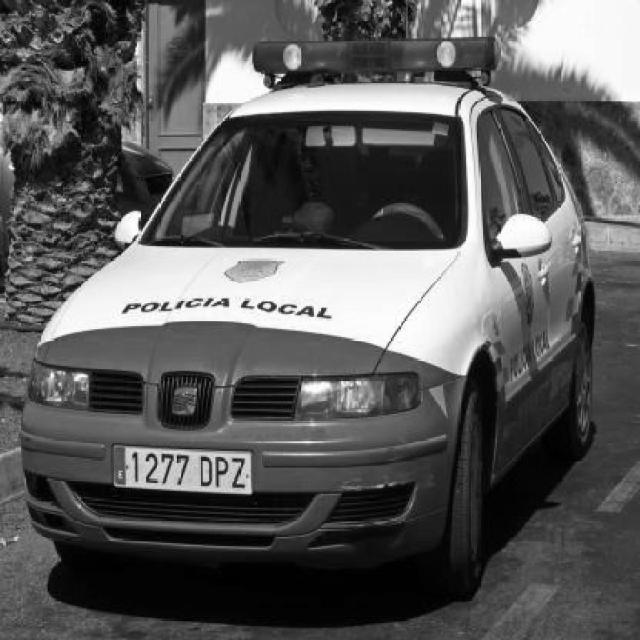car: (17, 22, 606, 610)
license-plate: (112, 445, 257, 492)
